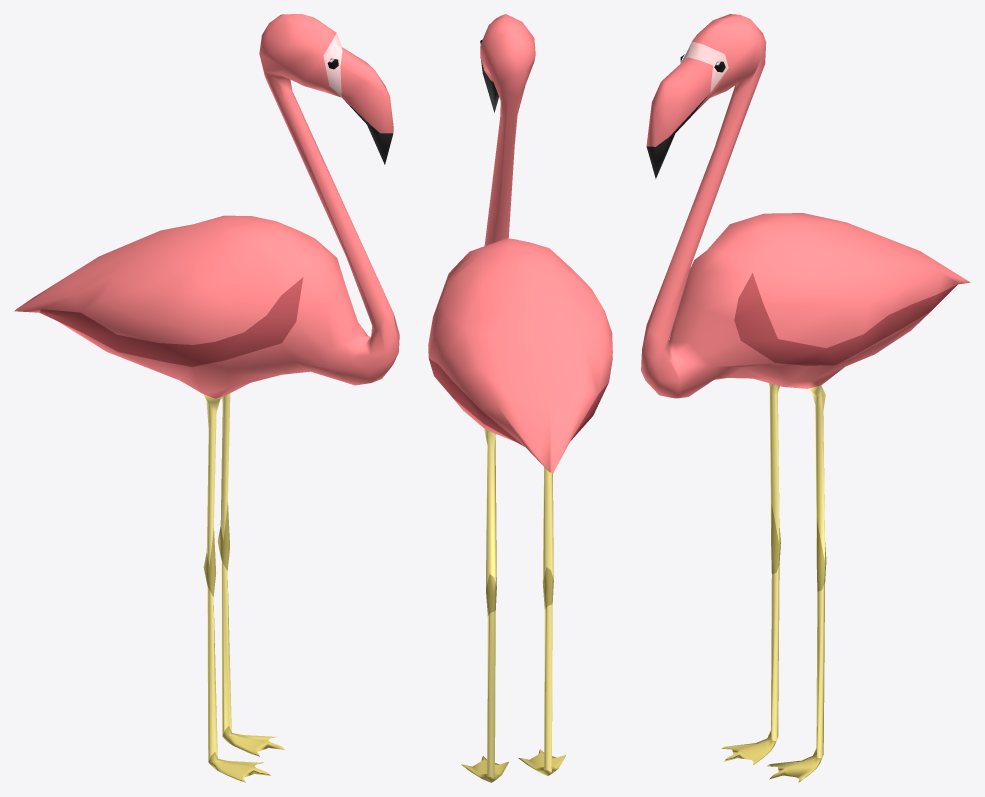
3 views of the same model, side by side, from view 1: azimuth 30°, elevation 25°; view 2: azimuth 150°, elevation 25°; view 3: azimuth 270°, elevation 25° (orthographic). The views are drawn at different scales.
Visible parts, largest first — view 1: Flamingo02; view 2: Flamingo02; view 3: Flamingo02.
Boxes of the visible parts, x1,y1,x2,y2 form: Flamingo02: [14, 14, 399, 782]; Flamingo02: [428, 14, 612, 782]; Flamingo02: [641, 14, 970, 782].
Size of what is drawn, in the model's own units: 0.653 by 2.05 by 0.8052.
1 material, 1 textured.
